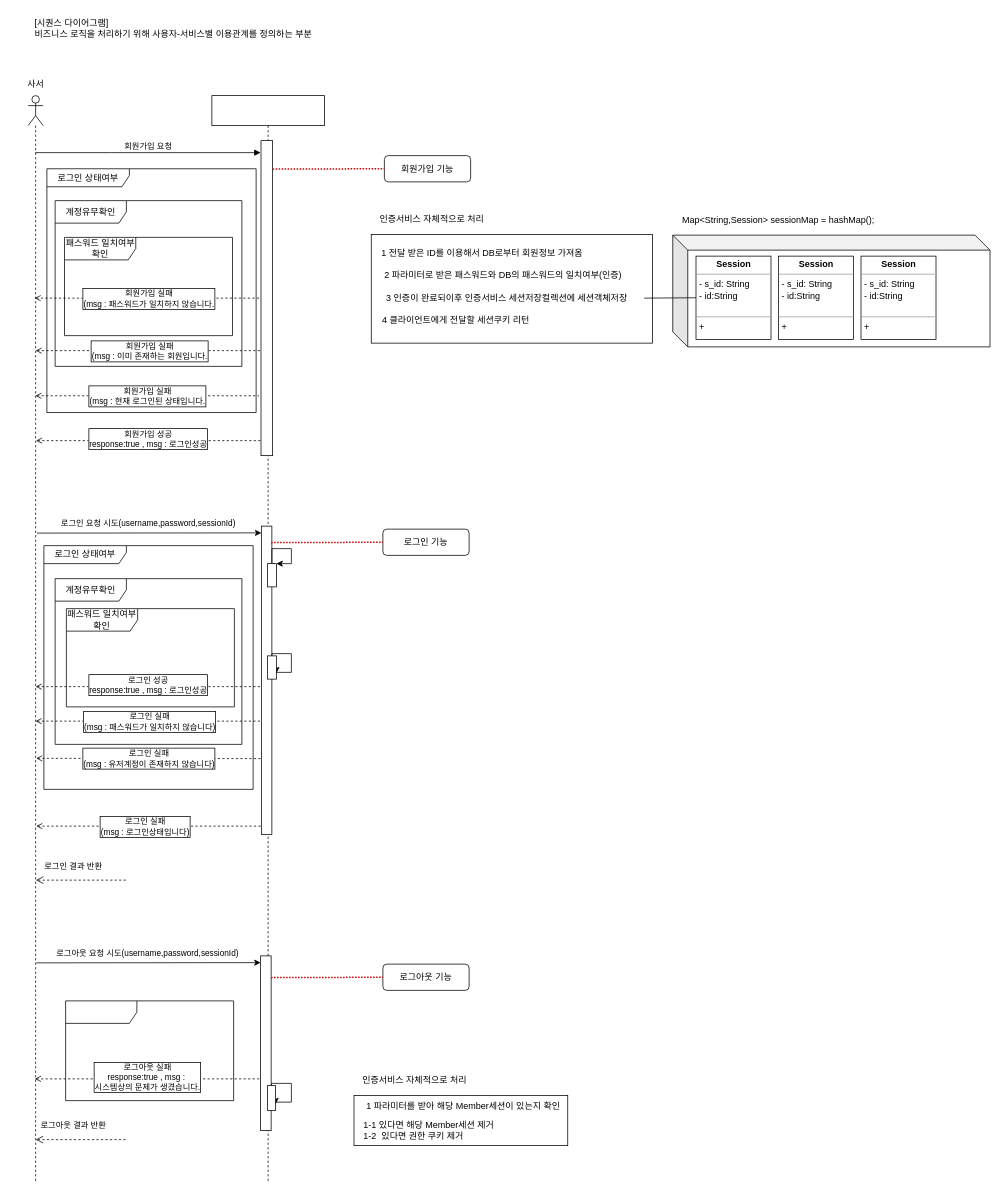
This 1003x1196 diagram has some shape labels left out. Each missing label, with the box of its shape:
MemberService: (211, 95, 324, 1183)
쿠키 제거 여부 확인: (65, 1000, 234, 1101)
